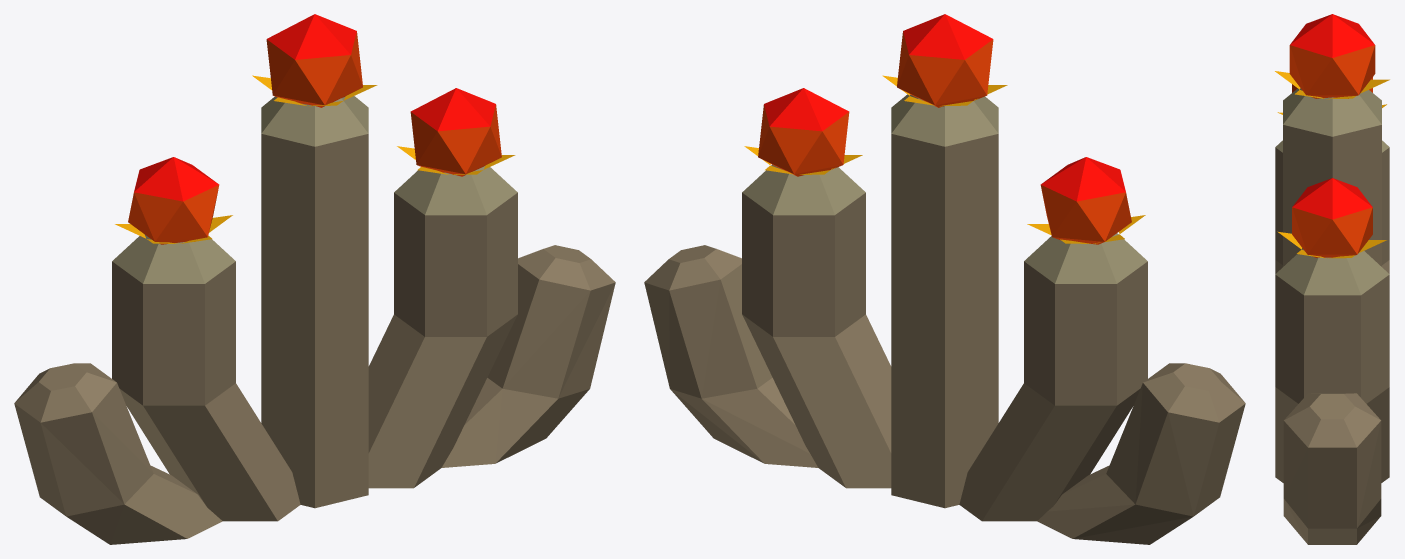
File: TB_D_Env_CactusE_B.FBX
3 views of the same model, side by side, from view 1: azimuth 30°, elevation 25°; view 2: azimuth 150°, elevation 25°; view 3: azimuth 270°, elevation 25° (orthographic). The views are drawn at different scales.
Parts seen in each view (by area): view 1: TB_D_Env_CactusE_B; view 2: TB_D_Env_CactusE_B; view 3: TB_D_Env_CactusE_B.
Boxes of the visible parts, x1=… form: TB_D_Env_CactusE_B: x1=14, y1=14, x2=615, y2=544; TB_D_Env_CactusE_B: x1=644, y1=14, x2=1245, y2=544; TB_D_Env_CactusE_B: x1=1275, y1=14, x2=1389, y2=544.
Bounding box in the file's own units: 2.65 × 2.06 × 0.5053.
